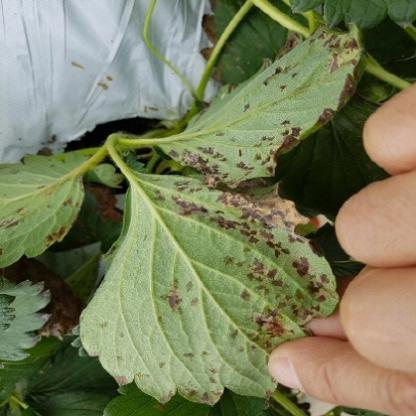Strawberry_Angular_LeafSpot: (79, 170, 341, 407), (152, 22, 370, 188), (0, 149, 100, 267)
